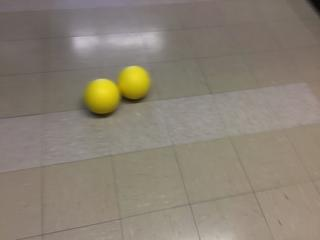power_cell: (83, 78, 120, 116), (120, 64, 151, 101)
